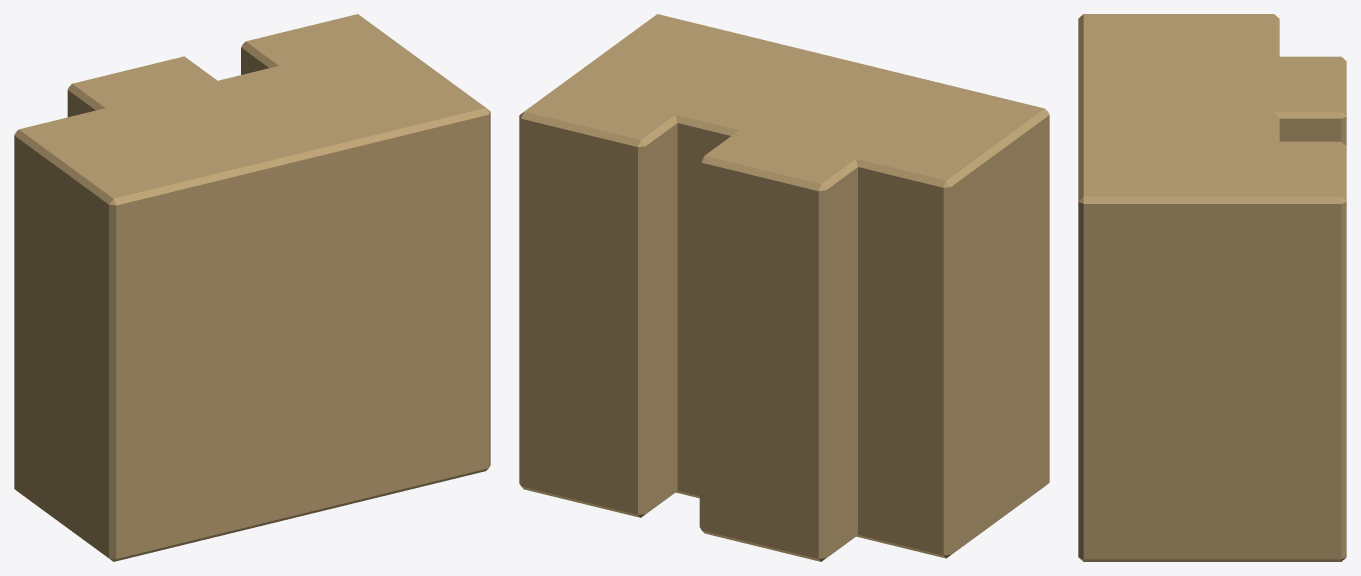
File: coastal_cliff_landmark.glb
3 renders of one model, left to right at view 1: azimuth 30°, elevation 25°; view 2: azimuth 150°, elevation 25°; view 3: azimuth 270°, elevation 25°, orthographic. The views are drawn at different scales.
Visible parts, largest first — view 1: cliff_stack, cliff_stack.003, cliff_stack.001, cliff_stack.002; view 2: cliff_stack, cliff_stack.001, cliff_stack.003, cliff_stack.002; view 3: cliff_stack.003, cliff_stack.001, cliff_stack, cliff_stack.002.
Part boxes in pixels (x1,y1,x2,y2): cliff_stack: (14, 102, 228, 561); cliff_stack.003: (241, 14, 490, 498); cliff_stack.001: (67, 56, 315, 540); cliff_stack.002: (218, 59, 401, 517); cliff_stack: (830, 80, 1049, 558); cliff_stack.001: (699, 58, 953, 561); cliff_stack.003: (519, 14, 761, 517); cliff_stack.002: (650, 36, 837, 498); cliff_stack.003: (1078, 141, 1346, 561); cliff_stack.001: (1078, 56, 1346, 145); cliff_stack: (1078, 14, 1279, 71); cliff_stack.002: (1078, 100, 1279, 157).
Size of the model in its own units: 13.2 by 12 by 8.
